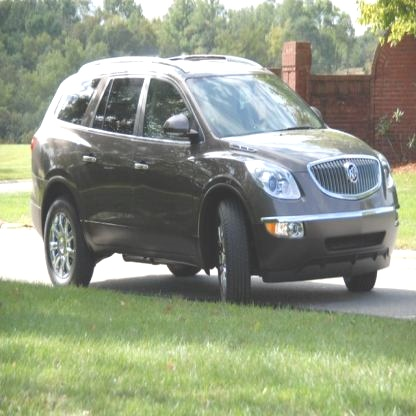Vehicle: (31, 51, 402, 302)
